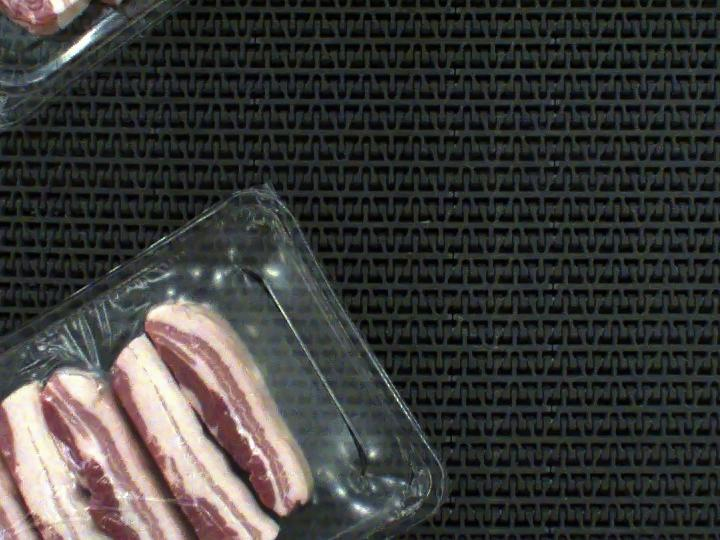unsealed: (0, 253, 250, 482)
